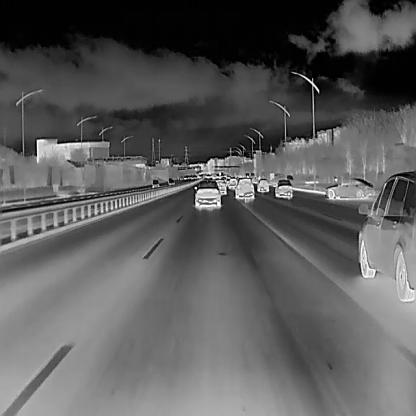car: (356, 170, 416, 300), (325, 177, 374, 199), (193, 180, 221, 209), (234, 176, 254, 199), (274, 178, 293, 199), (214, 178, 227, 194), (256, 177, 269, 193), (226, 176, 238, 190), (151, 178, 159, 187), (168, 176, 175, 186), (178, 174, 183, 180)
